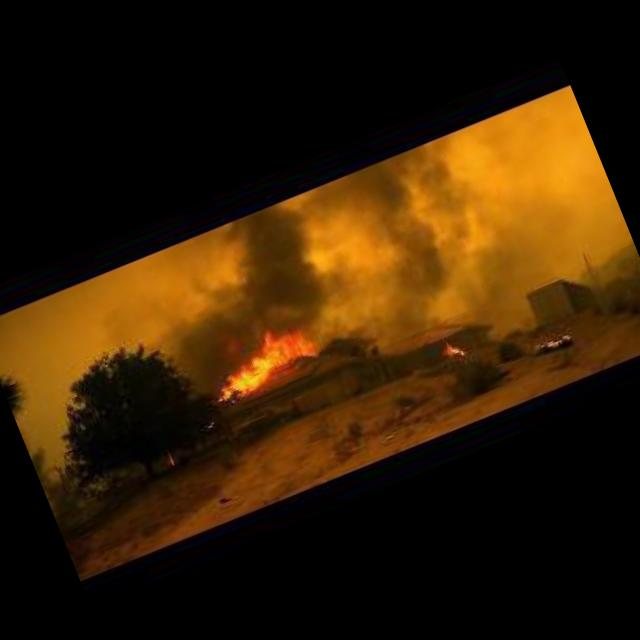fire: (194, 314, 323, 409), (440, 336, 466, 361)
smoke: (164, 198, 344, 370), (326, 150, 470, 336)
